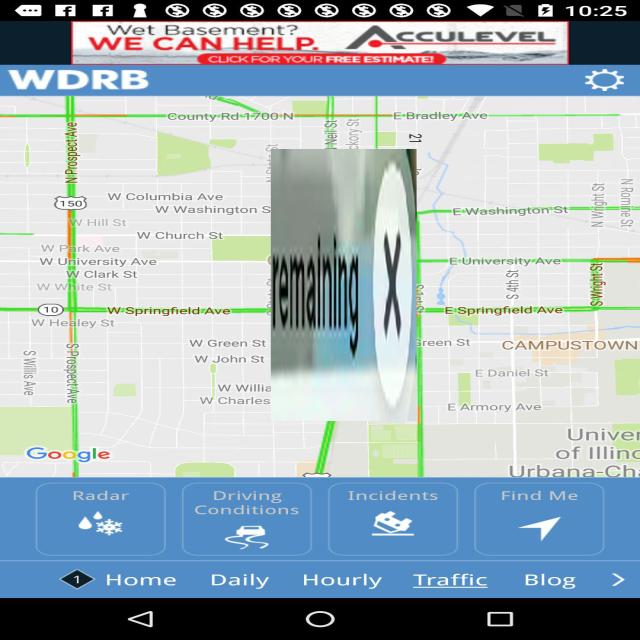misdirection: (270, 149, 416, 421)
